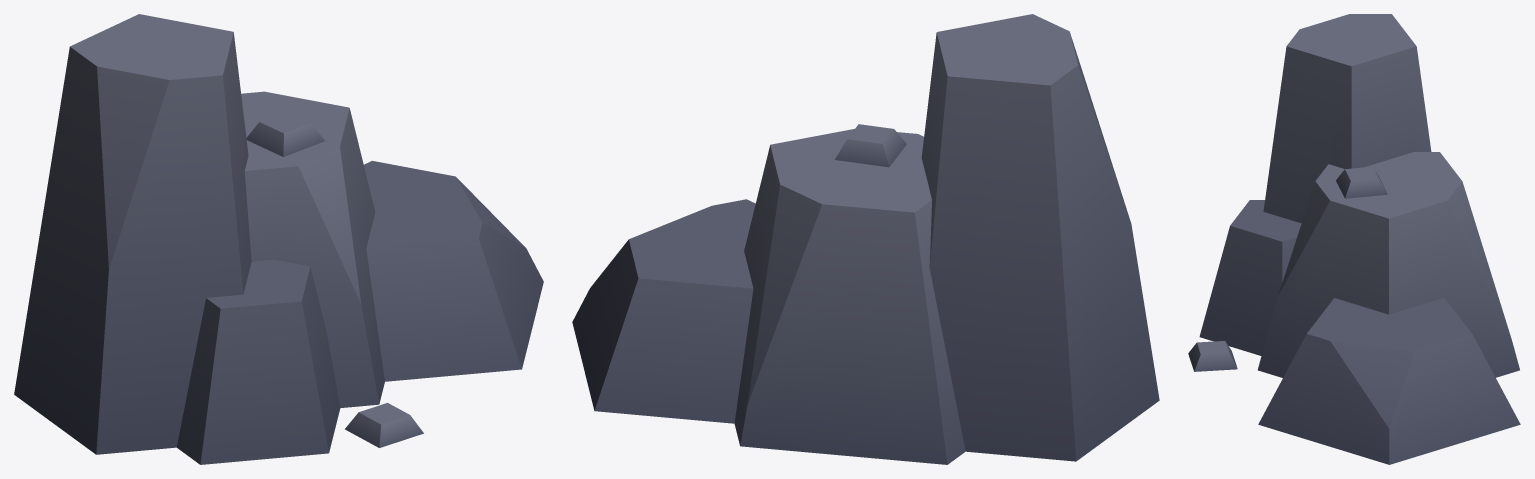
Rendered from rock-c.glb.
3 renders of one model, left to right at view 1: azimuth 30°, elevation 25°; view 2: azimuth 150°, elevation 25°; view 3: azimuth 270°, elevation 25°, orthographic. The views are drawn at different scales.
Visible parts, largest first — view 1: rock-c; view 2: rock-c; view 3: rock-c.
Part boxes in pixels (<box>): rock-c: <box>14,14,543,464</box>; rock-c: <box>572,14,1159,464</box>; rock-c: <box>1188,14,1520,464</box>.
Bounding box in the file's own units: 0.7837 × 0.51 × 0.5659.
